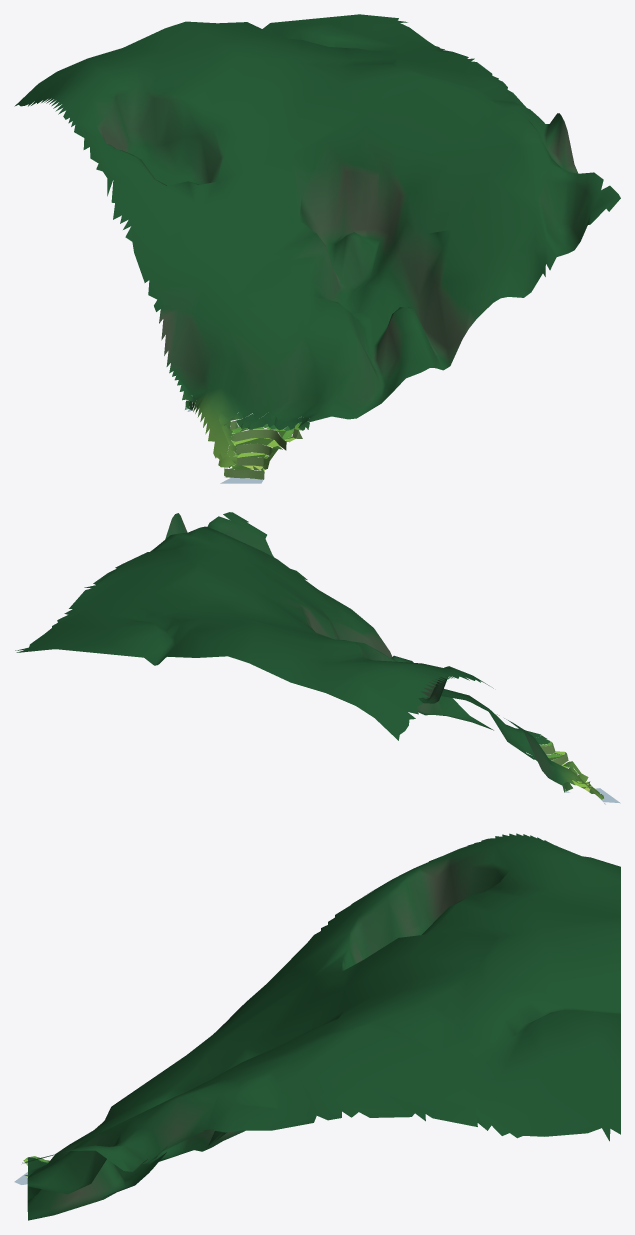
The model's file is payo_land_xm2_y3_lod2.glb.
3 renders of one model, top to bottom at view 1: azimuth 30°, elevation 25°; view 2: azimuth 150°, elevation 25°; view 3: azimuth 270°, elevation 25°, orthographic. The views are drawn at different scales.
Visible parts, largest first — view 1: payo_land_xm2_y3; view 2: payo_land_xm2_y3; view 3: payo_land_xm2_y3.
Boxes of the visible parts, x1,y1,x2,y2 form: payo_land_xm2_y3: (14, 14, 620, 483); payo_land_xm2_y3: (15, 512, 620, 804); payo_land_xm2_y3: (14, 833, 620, 1220).
Bounding box in the file's own units: 268 × 168 × 261.
